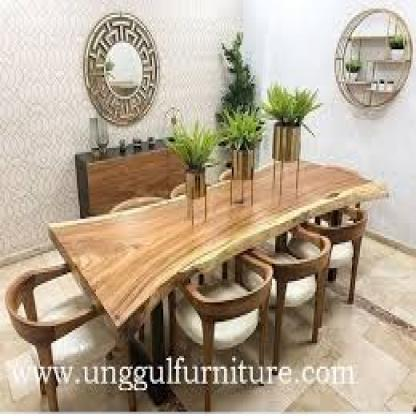Dining Table: (1, 154, 416, 360)
